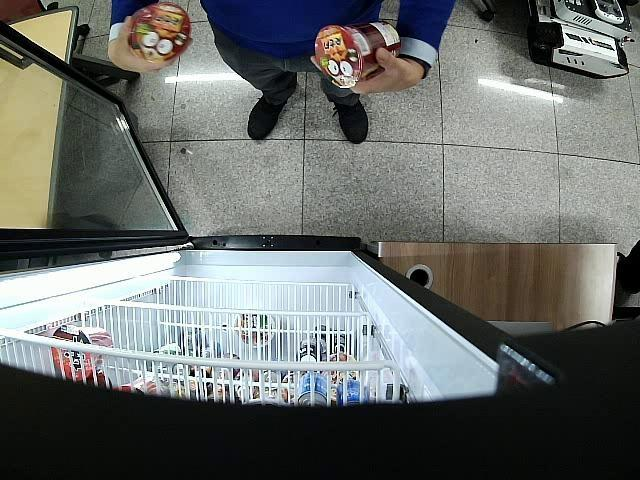06_nuguri_S: (314, 19, 402, 88), (129, 3, 191, 60)
